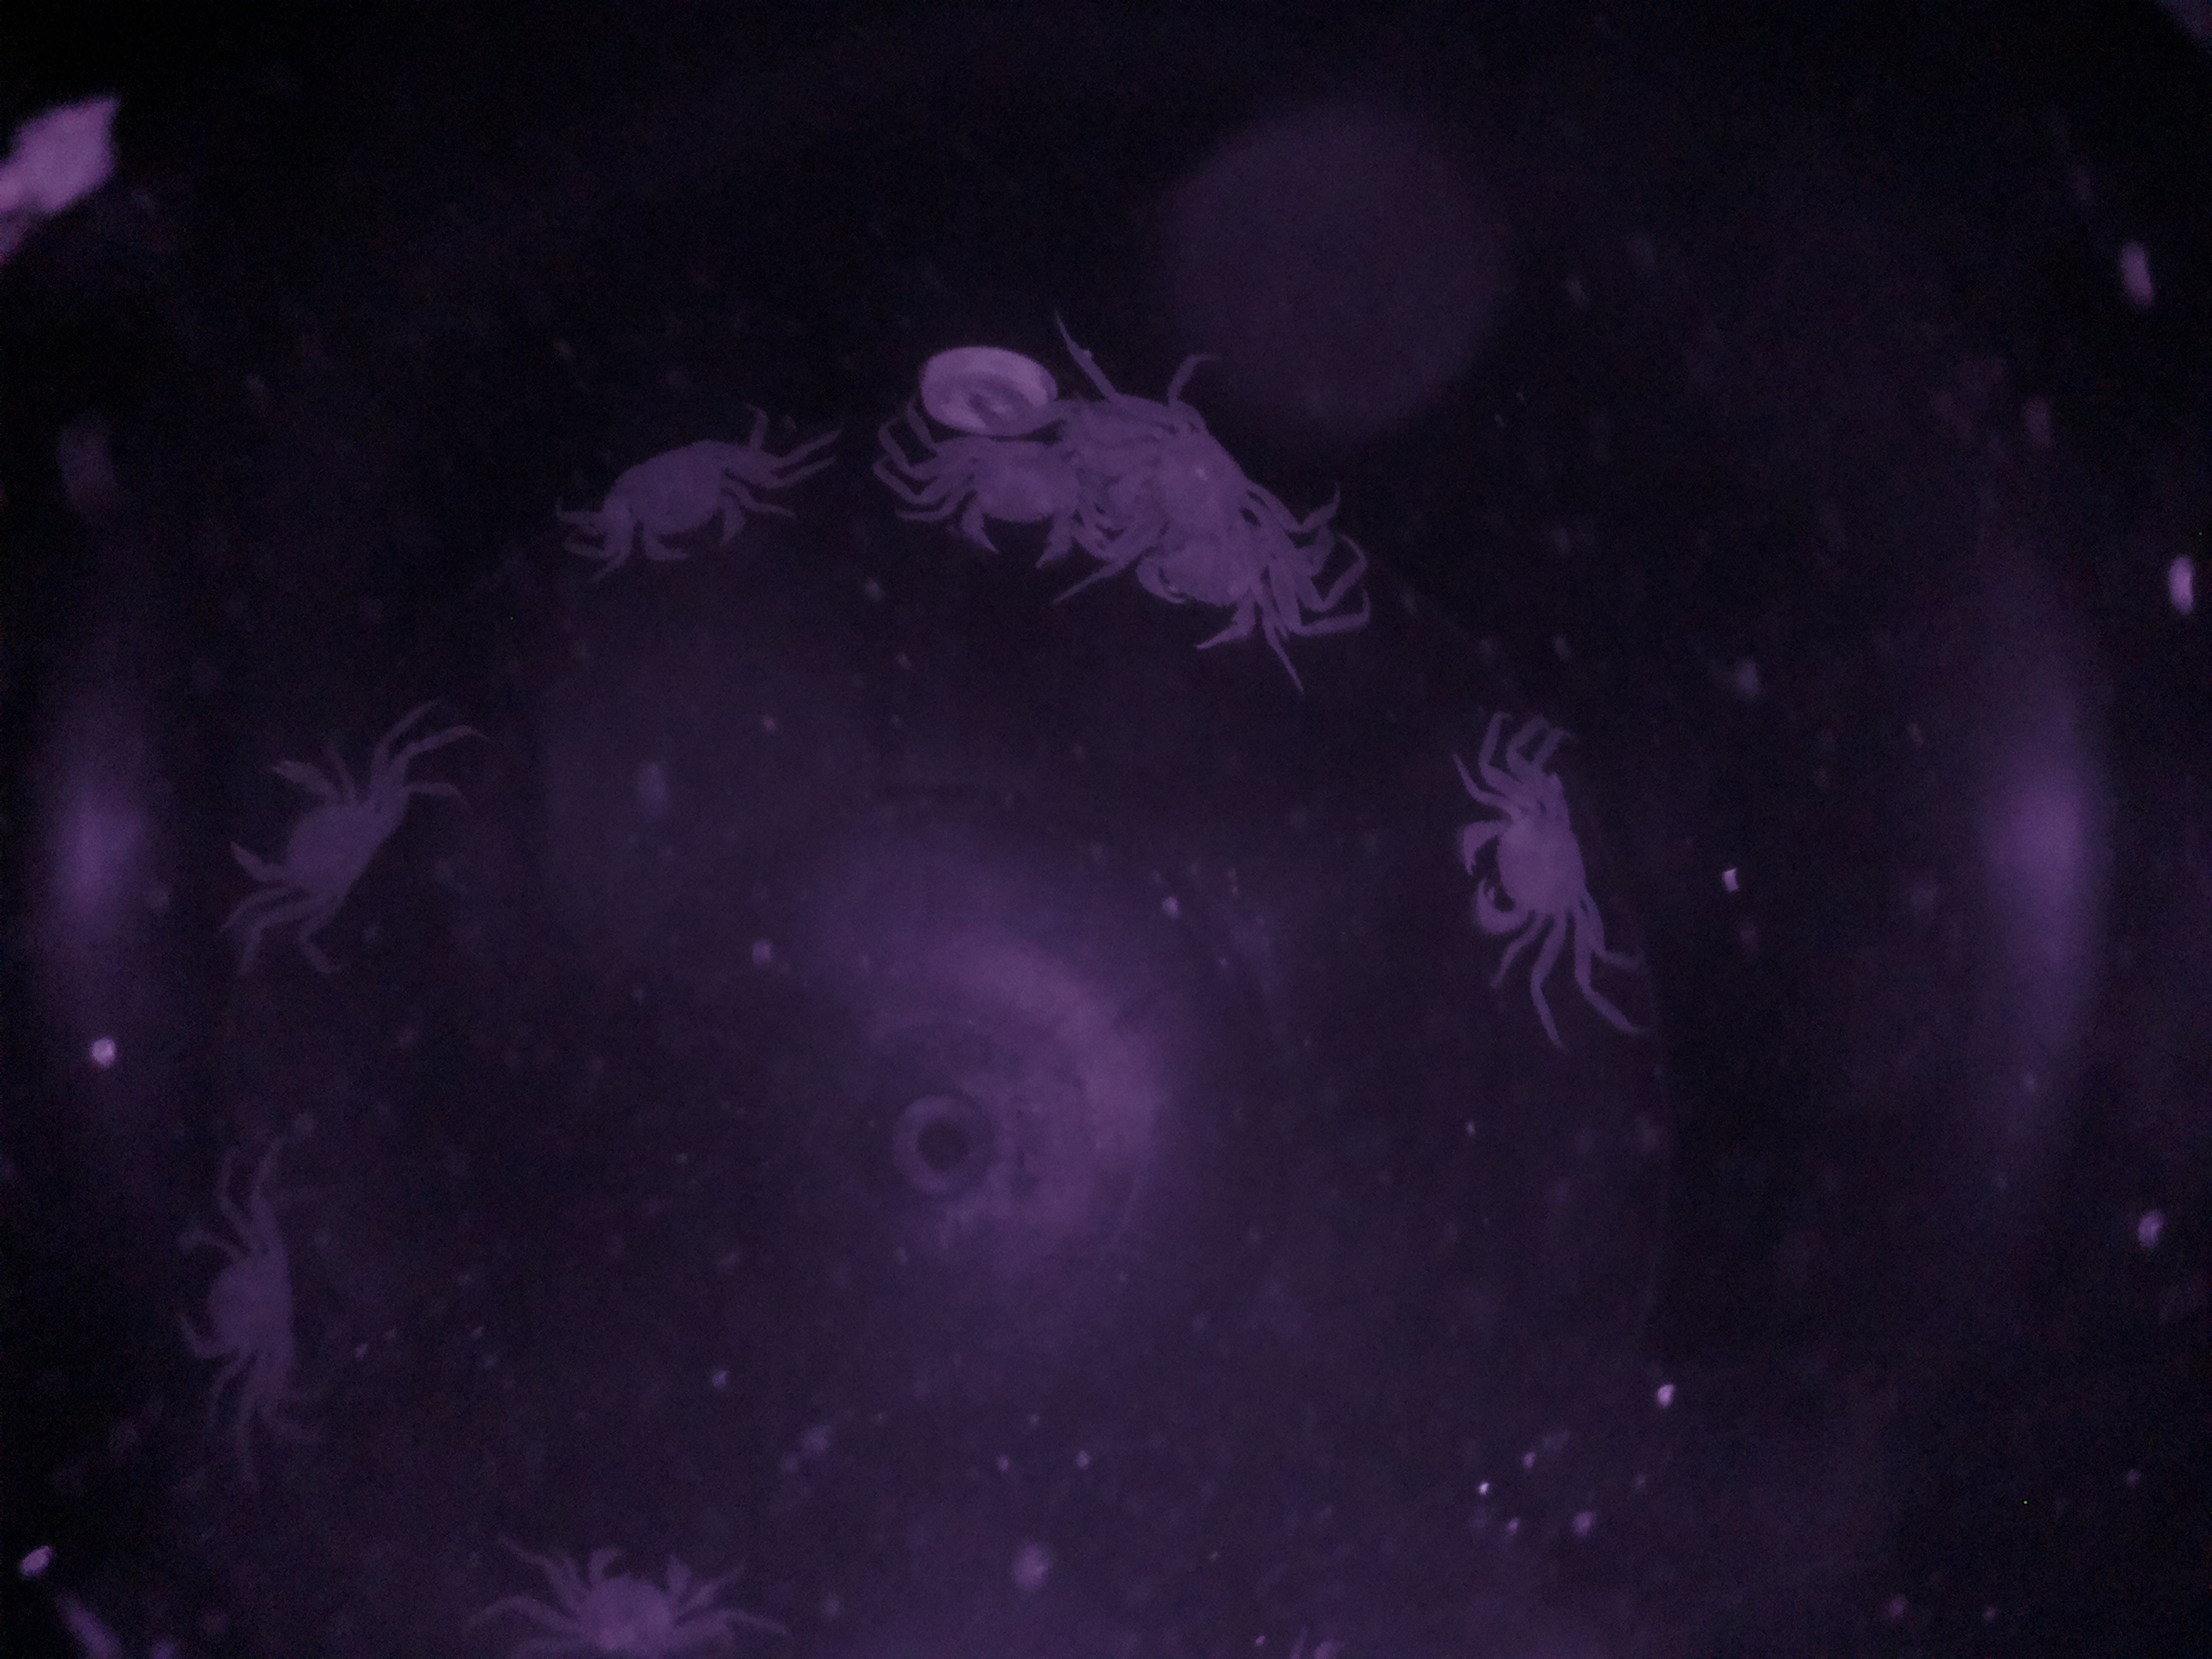Crab: (1440, 732, 1630, 995), (202, 728, 434, 943), (578, 416, 798, 589)
